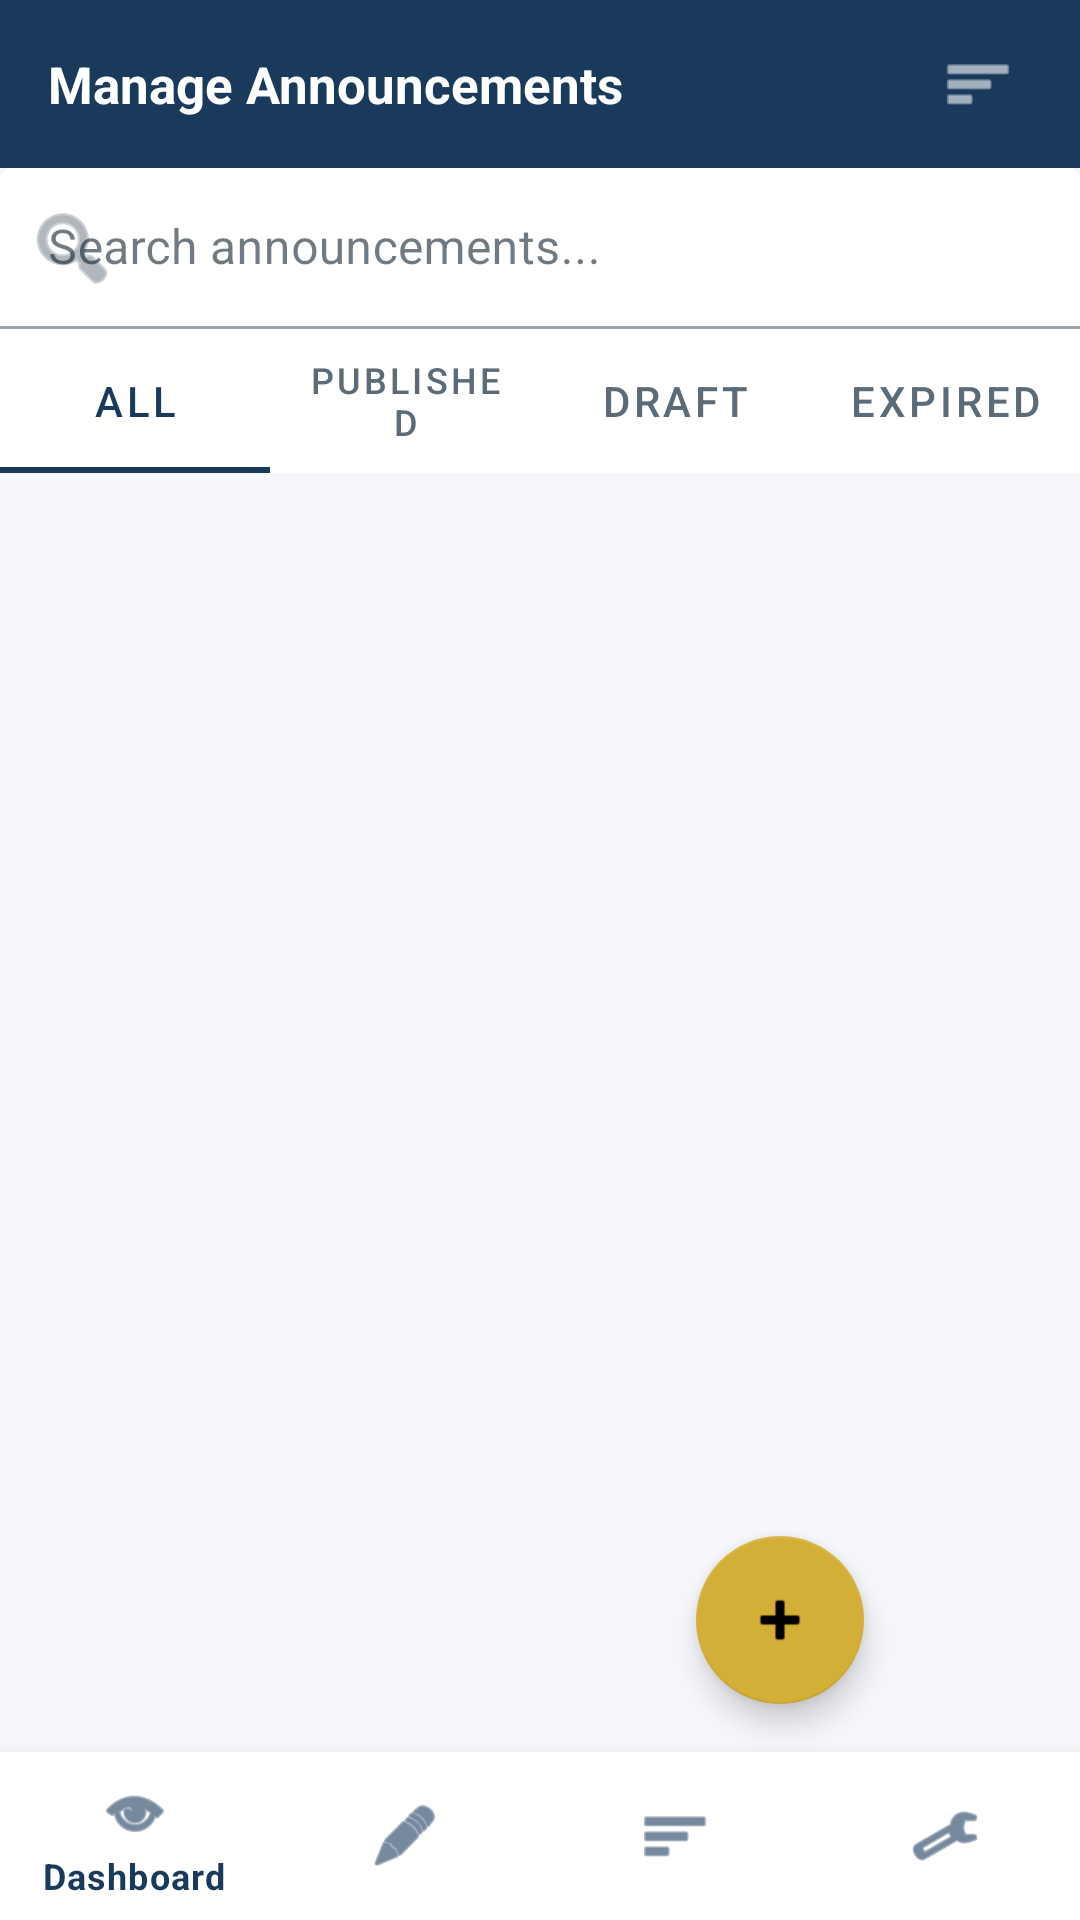

Point at icon controls on the screen. Image size 1080x1920, points as (x=x, y=y).
Add: (x=780, y=1620)
sort by size: (x=978, y=84)
